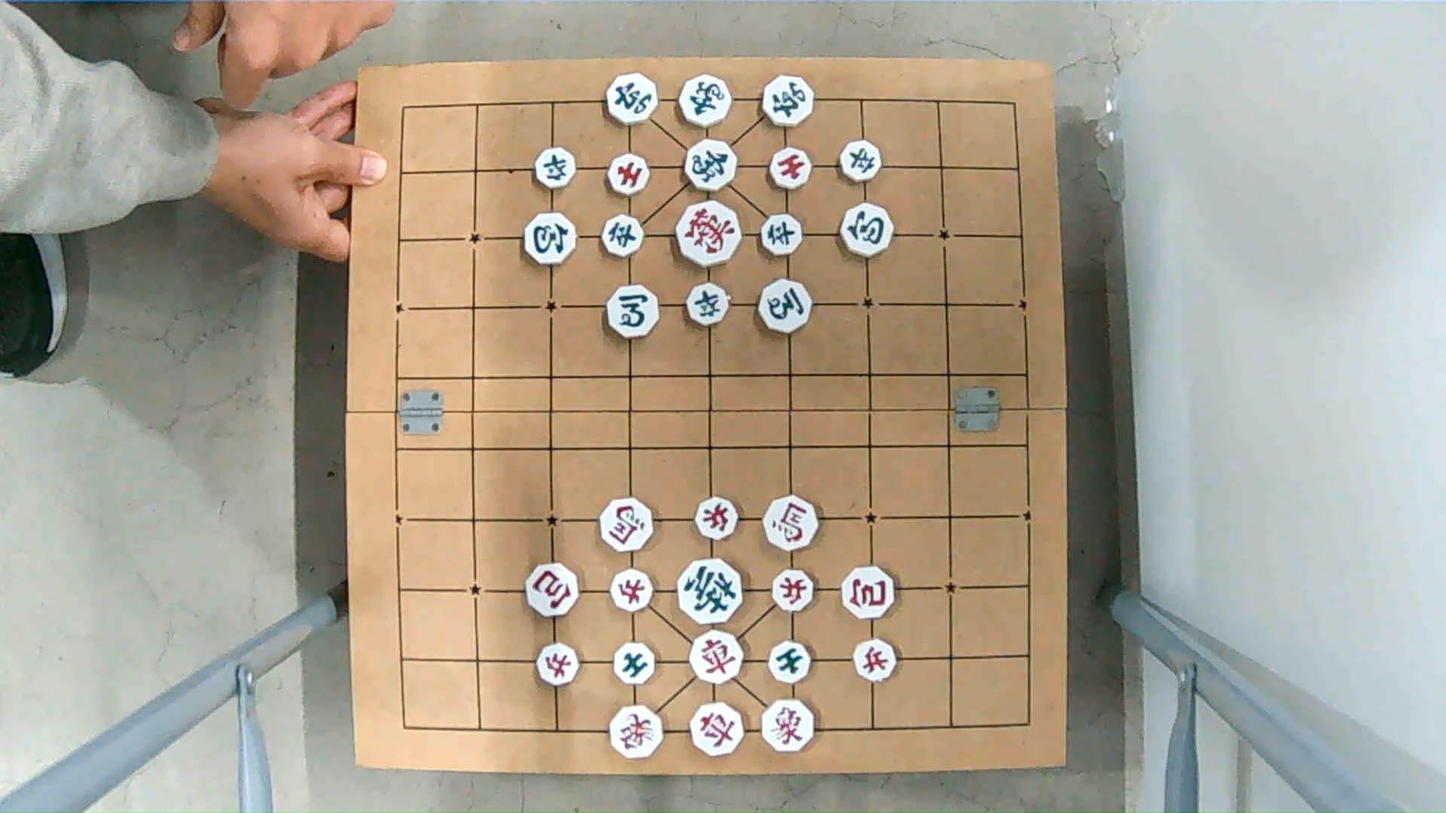cha_green: (761, 78, 819, 126), (606, 78, 664, 125)
cha_red: (685, 634, 749, 681), (688, 704, 743, 758)
jol_green: (687, 281, 731, 325), (532, 148, 578, 187), (837, 142, 883, 181), (762, 215, 804, 257), (602, 217, 648, 255)
jol_red: (850, 639, 901, 683), (770, 571, 819, 610), (693, 495, 737, 538), (609, 570, 653, 612), (535, 646, 581, 684)
ma_green: (757, 283, 816, 333), (602, 288, 660, 337)
ma_red: (765, 495, 819, 550), (596, 503, 657, 551)
po_green: (839, 206, 896, 255), (523, 215, 579, 263)
po_red: (524, 566, 584, 615), (839, 570, 899, 618)
sa_green: (767, 641, 810, 683), (611, 644, 658, 682)
sa_red: (767, 149, 814, 188), (606, 157, 652, 195)
sang_green: (682, 142, 740, 190), (676, 78, 732, 126)
sang_red: (603, 707, 663, 756), (758, 703, 818, 751)
wang_green: (675, 561, 745, 626)
wang_red: (673, 204, 743, 263)
